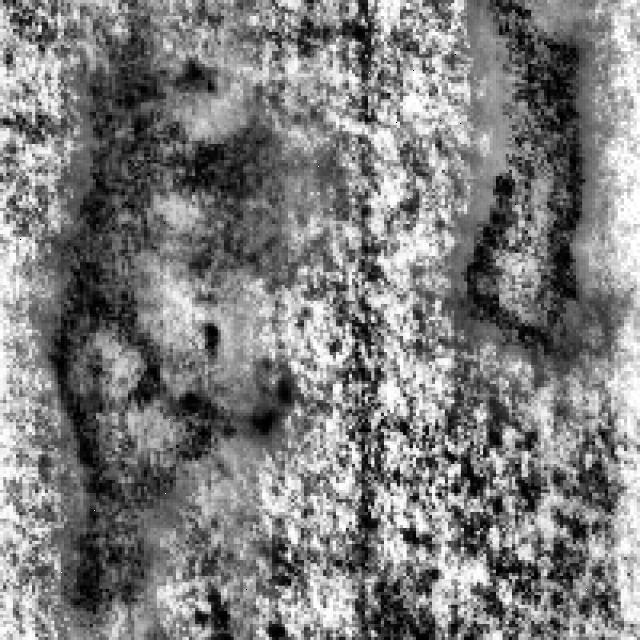Scratches: (38, 41, 294, 608), (454, 0, 592, 352)
